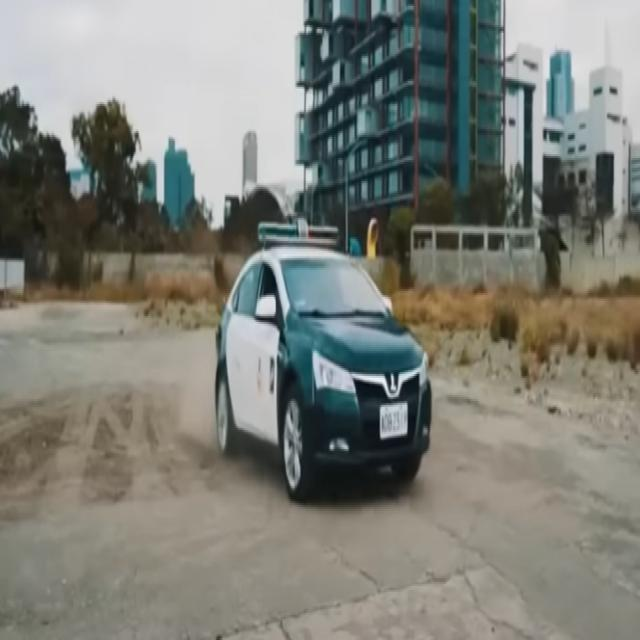police_car: (204, 207, 434, 527)
